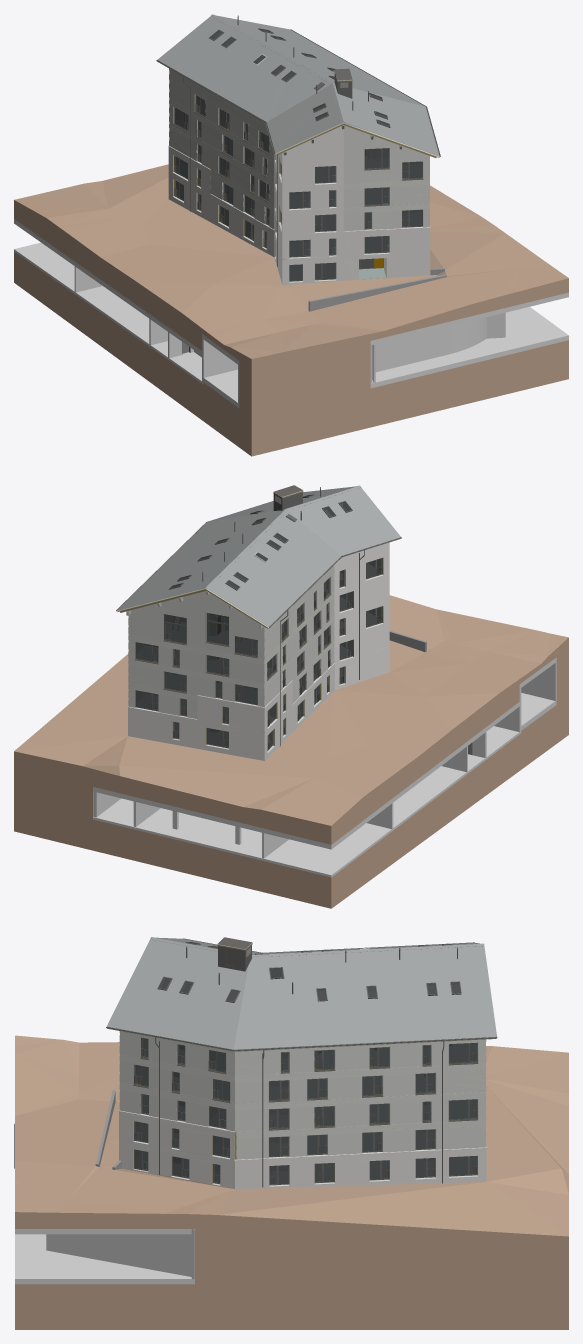
The model's file is EISVOGEL_test_draco_ktx2.glb.
3 views of the same model, one above another, from view 1: azimuth 30°, elevation 25°; view 2: azimuth 150°, elevation 25°; view 3: azimuth 270°, elevation 25° (orthographic). The views are drawn at different scales.
Size of what is drawn, in the model's own units: 42.69 by 34.28 by 55.26.
